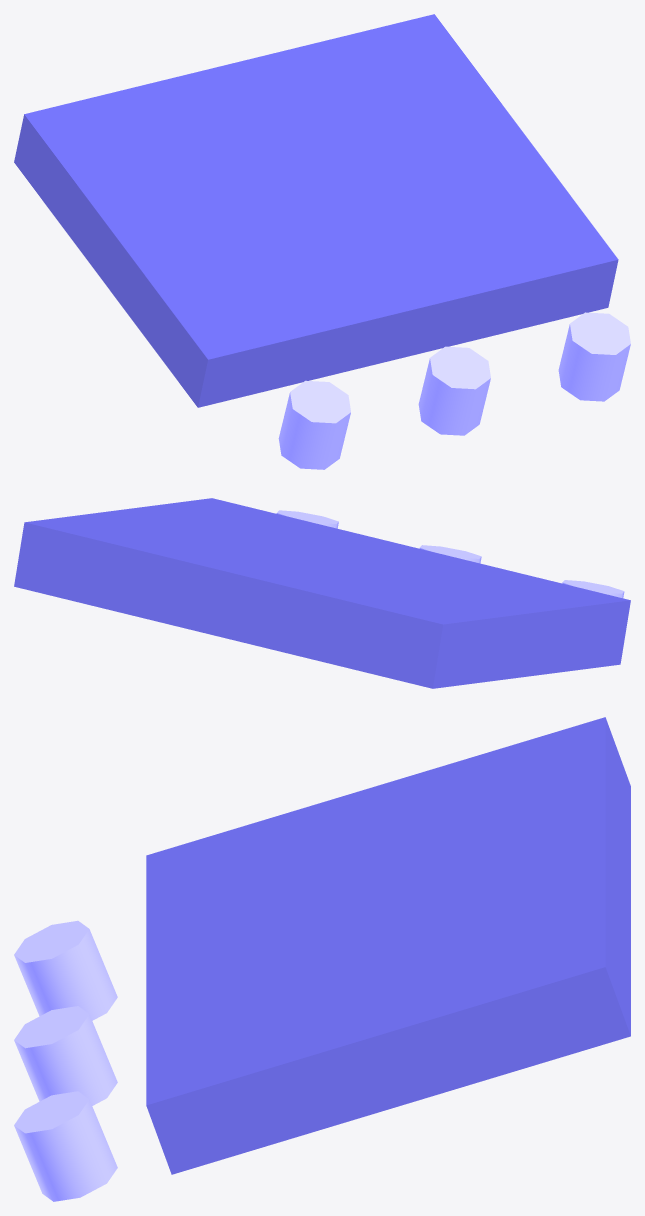
The picture shows the model from 3 angles, top to bottom: view 1: azimuth 30°, elevation 25°; view 2: azimuth 150°, elevation 25°; view 3: azimuth 270°, elevation 25°; orthographic projection. The views are drawn at different scales.
Parts seen in each view (by area): view 1: Box, Cylinder (×3); view 2: Box, Cylinder (×3); view 3: Box, Cylinder (×3).
Boxes of the visible parts, x1,y1,x2,y2 form: Box: (14,14,618,407); Cylinder (×3): (278,312,630,469); Box: (14,498,630,688); Cylinder (×3): (276,510,624,598); Box: (146,717,630,1174); Cylinder (×3): (14,920,117,1201).
Bounding box in the file's own units: 0.88 × 0.4278 × 0.9178.
